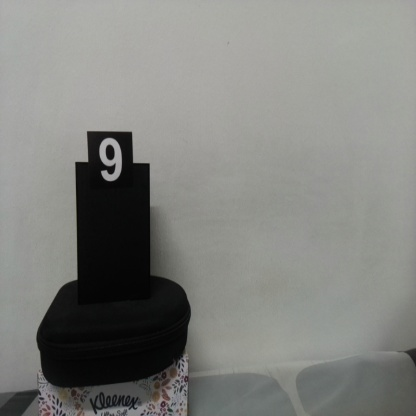id_9: (87, 131, 133, 204)
